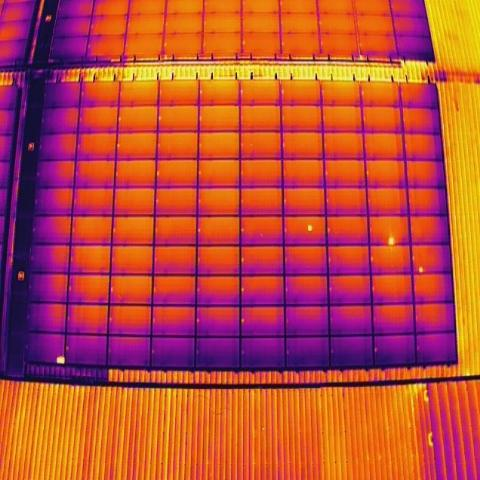fault: (54, 355, 66, 367), (386, 235, 396, 247), (305, 223, 314, 234), (417, 265, 424, 274)
